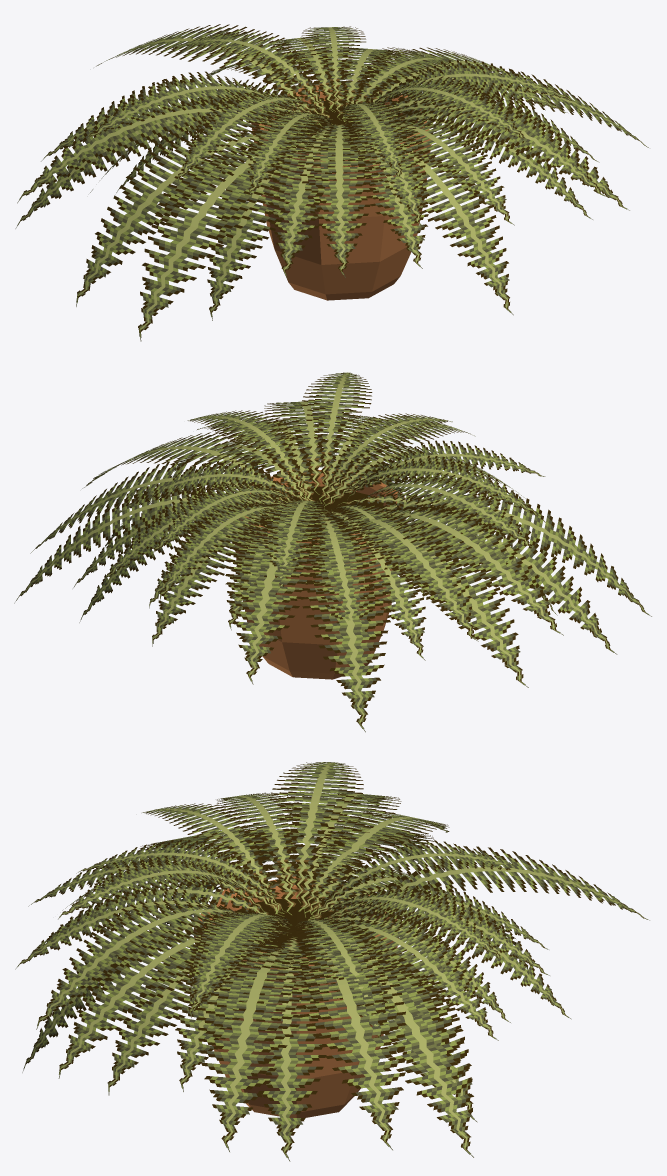
File: plant_boston_fern.gltf
3 views of the same model, one above another, from view 1: azimuth 30°, elevation 25°; view 2: azimuth 150°, elevation 25°; view 3: azimuth 270°, elevation 25° (orthographic). The views are drawn at different scales.
Parts seen in each view (by area): view 1: Pot, FrondCard_033, FrondCard_022, FrondCard_011, FrondCard_013, FrondCard_003, FrondCard_030, FrondCard_017, FrondCard_027, FrondCard_018, FrondCard_029, FrondCard_021 (+24 smaller); view 2: Pot, FrondCard_023, FrondCard_003, FrondCard_024, FrondCard_010, FrondCard_009, FrondCard_041, FrondCard_033, FrondCard_022, FrondCard_019, FrondCard_029, FrondCard_004 (+28 smaller); view 3: FrondCard_028, FrondCard_040, FrondCard_019, Pot, FrondCard_034, FrondCard_027, FrondCard_035, FrondCard_029, FrondCard_012, FrondCard_023, FrondCard_031, FrondCard_007 (+28 smaller).
Boxes of the visible parts, x1,y1,x2,y2 form: Pot: [251, 85, 431, 300]; FrondCard_033: [138, 142, 313, 341]; FrondCard_022: [76, 130, 296, 306]; FrondCard_011: [298, 124, 378, 277]; FrondCard_013: [383, 136, 513, 315]; FrondCard_003: [17, 91, 298, 203]; FrondCard_030: [268, 124, 354, 278]; FrondCard_017: [206, 130, 329, 320]; FrondCard_027: [380, 93, 607, 197]; FrondCard_018: [386, 118, 514, 225]; FrondCard_029: [85, 71, 296, 141]; FrondCard_021: [178, 91, 323, 182]; Pot: [233, 469, 404, 679]; FrondCard_023: [225, 528, 328, 684]; FrondCard_003: [377, 506, 563, 635]; FrondCard_024: [301, 520, 391, 732]; FrondCard_010: [340, 513, 478, 641]; FrondCard_009: [301, 514, 376, 632]; FrondCard_041: [344, 523, 528, 687]; FrondCard_033: [368, 488, 651, 616]; FrondCard_022: [363, 504, 617, 654]; FrondCard_019: [14, 483, 279, 603]; FrondCard_029: [355, 472, 535, 548]; FrondCard_004: [301, 372, 372, 485]; FrondCard_028: [196, 948, 314, 1151]; FrondCard_040: [289, 938, 406, 1150]; FrondCard_019: [328, 948, 473, 1157]; Pot: [193, 876, 398, 1117]; FrondCard_034: [252, 937, 337, 1161]; FrondCard_027: [36, 899, 240, 1029]; FrondCard_035: [58, 925, 211, 1078]; FrondCard_029: [270, 762, 363, 903]; FrondCard_012: [329, 918, 498, 1040]; FrondCard_023: [346, 846, 649, 922]; FrondCard_031: [189, 911, 289, 1014]; FrondCard_007: [295, 918, 387, 1036].
Size of the model in its own units: 6.66 by 2.46 by 5.86.
Materials: 3 (3 with a texture image).
